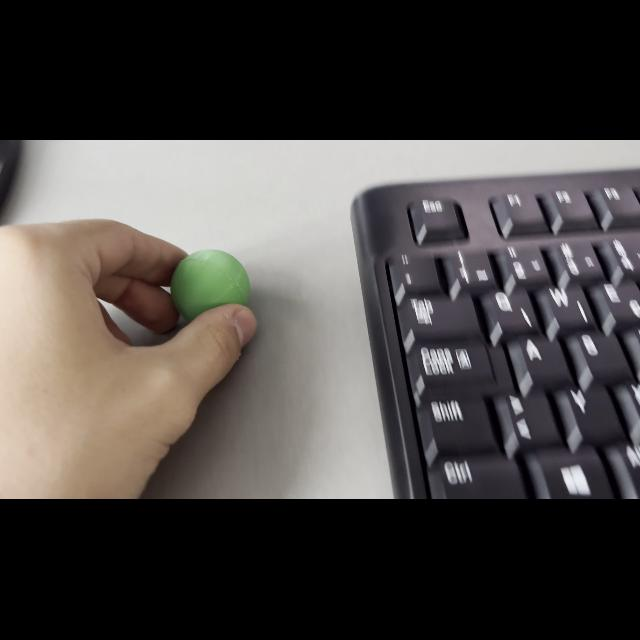objects: (166, 244, 254, 324)
